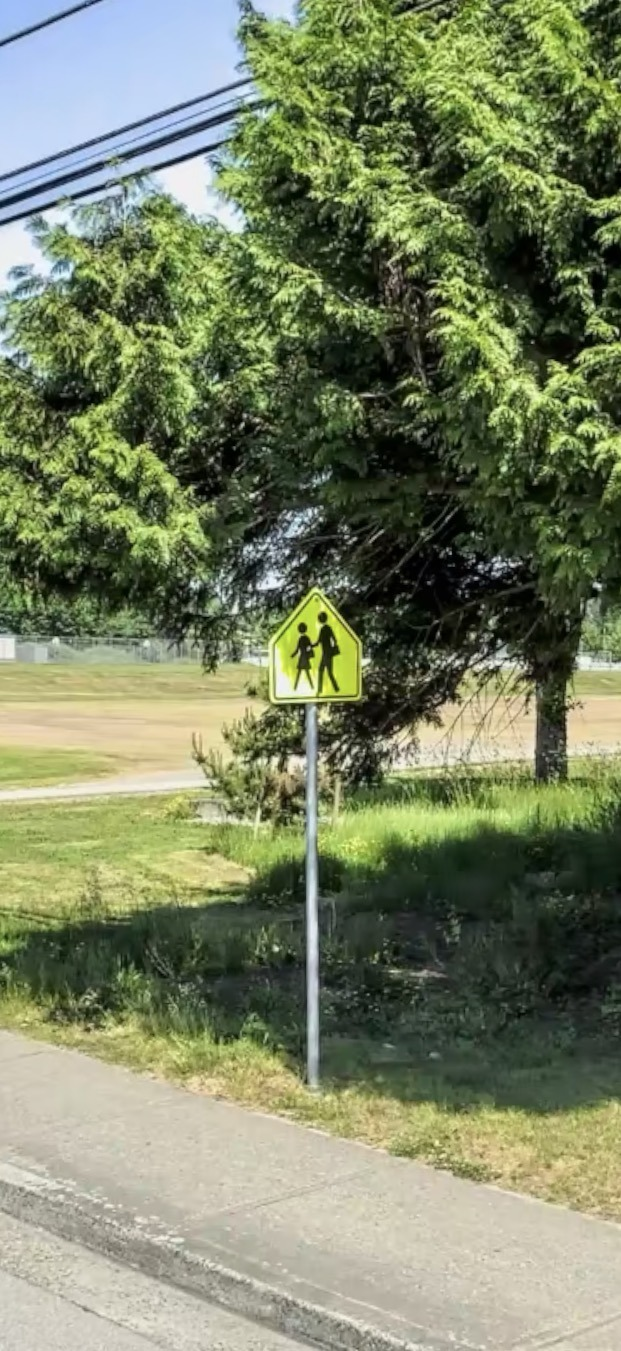school_zone: (227, 532, 386, 790)
